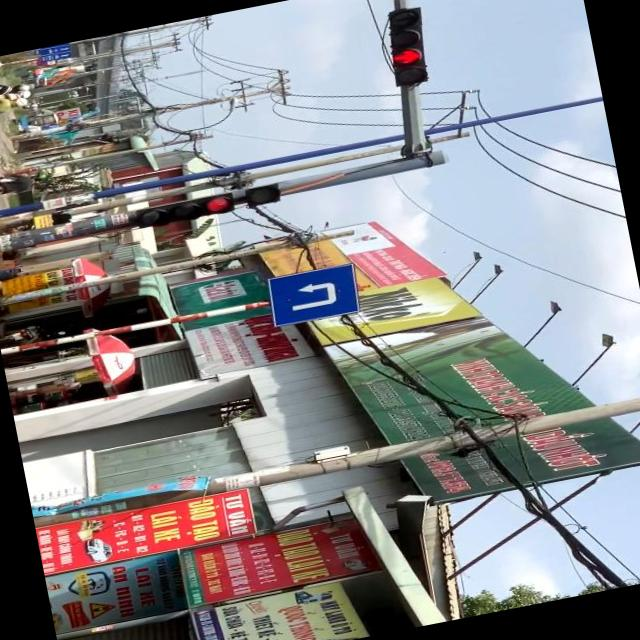I-409: (267, 264, 361, 329)
